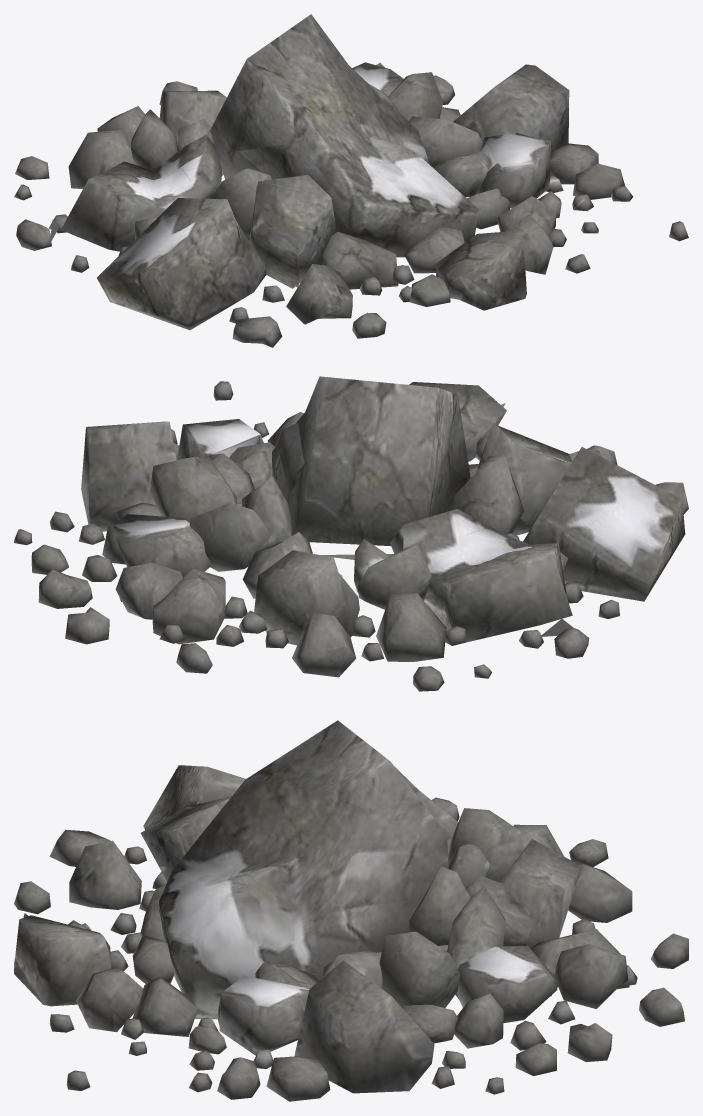
File: snow_scree.glb
3 views of the same model, one above another, from view 1: azimuth 30°, elevation 25°; view 2: azimuth 150°, elevation 25°; view 3: azimuth 270°, elevation 25° (orthographic). The views are drawn at different scales.
Parts seen in each view (by area): view 1: kit-snow-scree-1; view 2: kit-snow-scree-1; view 3: kit-snow-scree-1.
Boxes of the visible parts, bbox=[...] form: kit-snow-scree-1: bbox=[14, 14, 688, 347]; kit-snow-scree-1: bbox=[14, 376, 688, 691]; kit-snow-scree-1: bbox=[14, 720, 688, 1101].
Size of the model in its own units: 2.98 by 1.07 by 3.
1 material, 1 textured.
